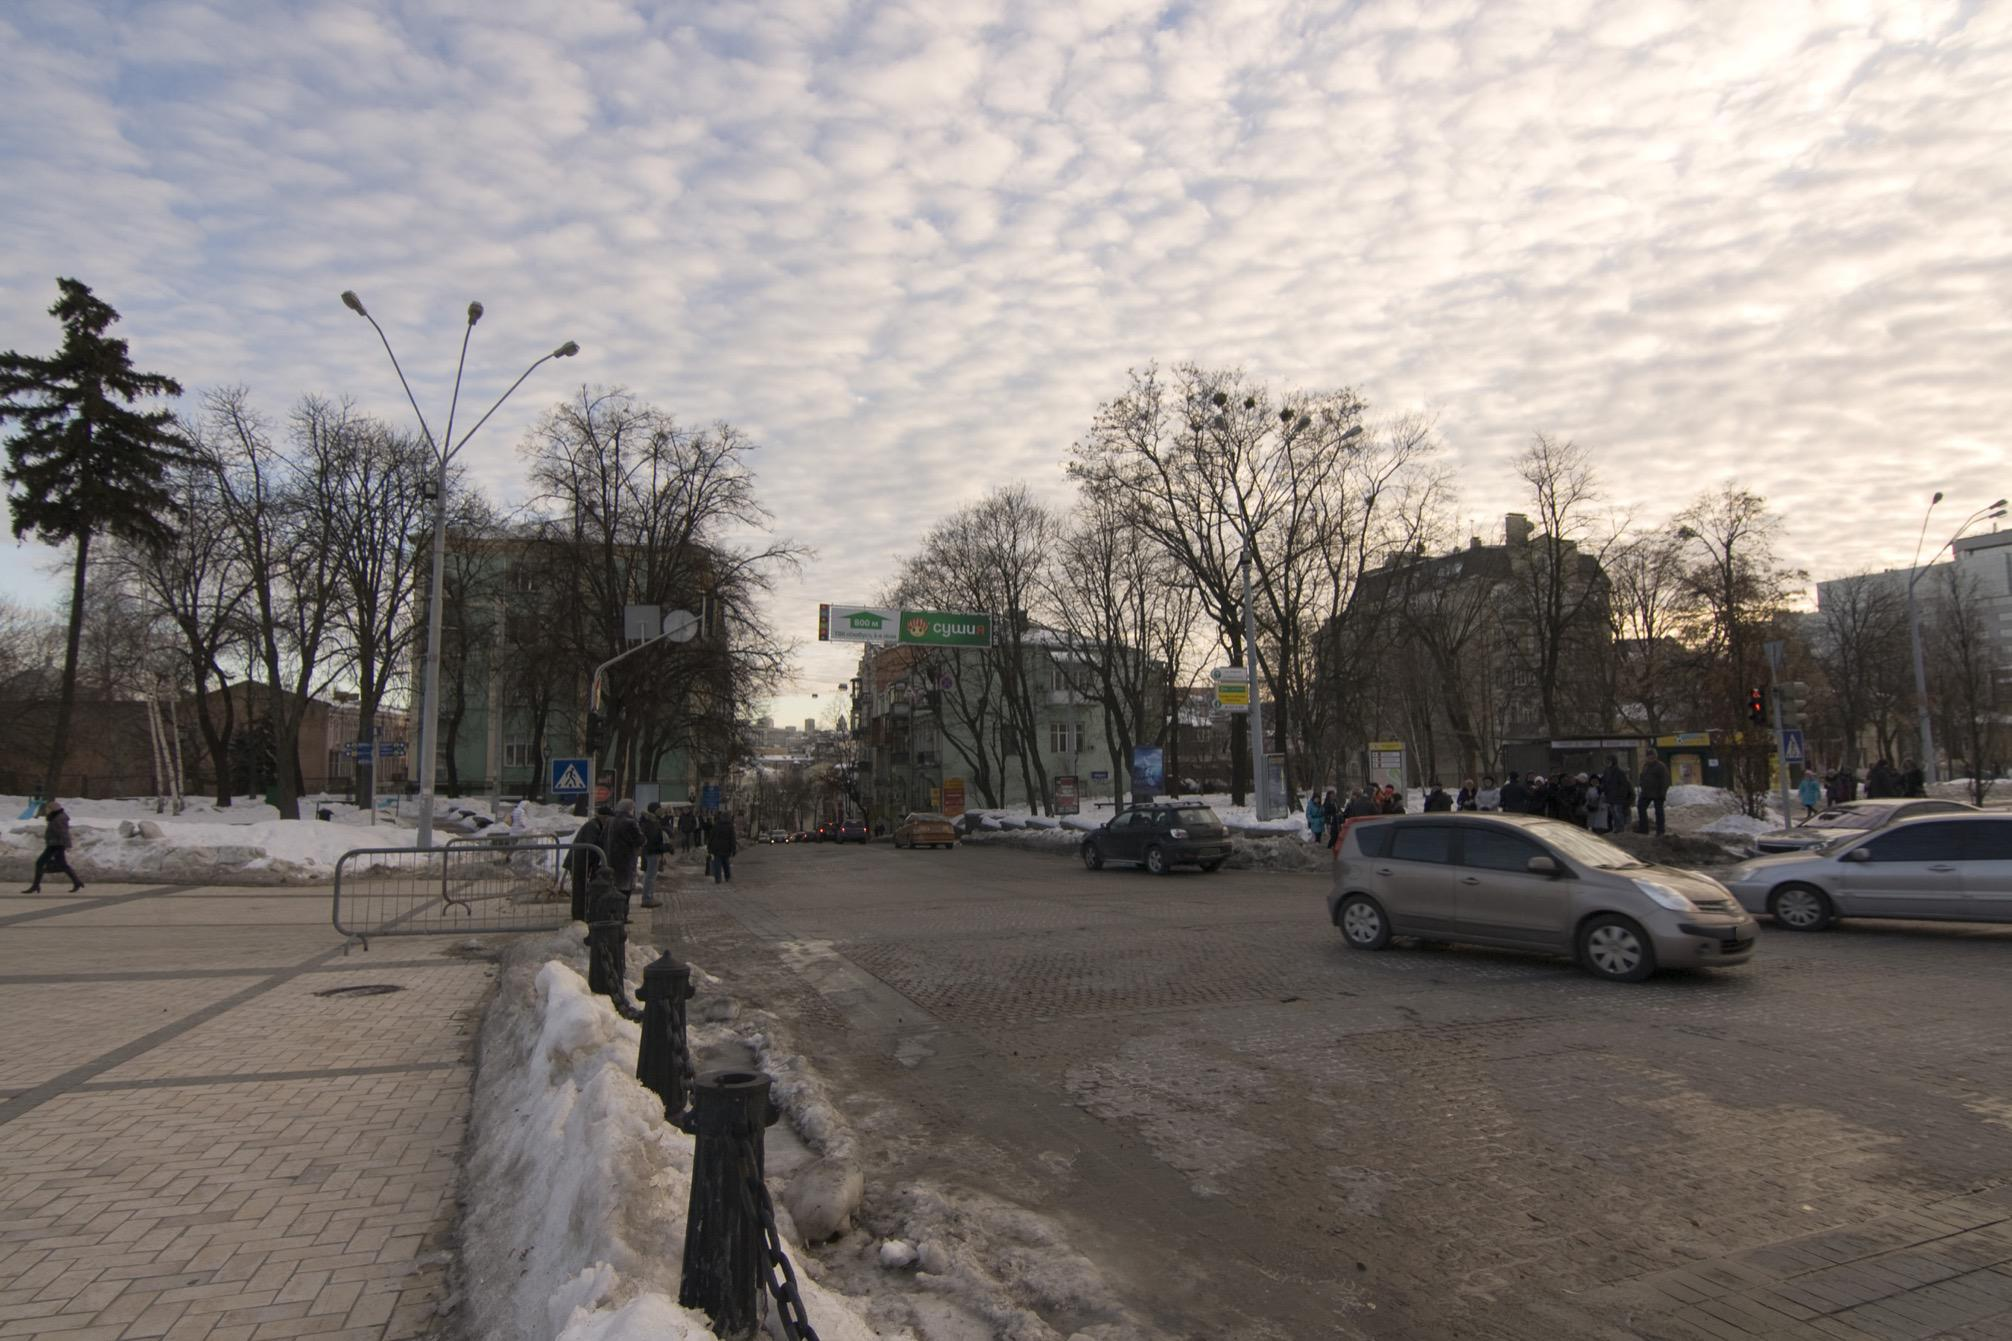vinyl banner: (809, 591, 996, 656)
